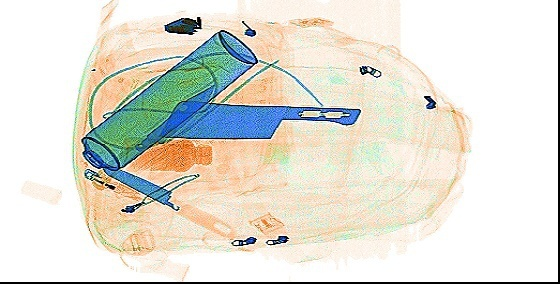knife: (88, 77, 218, 190), (100, 159, 237, 239), (156, 96, 362, 141), (161, 14, 199, 34)
lighter: (82, 167, 141, 202)
pressure: (79, 27, 258, 171)
